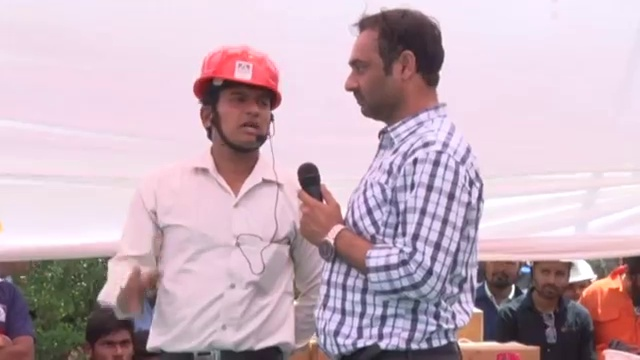helmet: (193, 39, 283, 103), (562, 261, 597, 286)
helmet_off: (346, 7, 443, 115), (78, 311, 139, 359), (533, 261, 571, 307), (483, 256, 521, 295), (620, 260, 640, 309)
helmet_on: (194, 38, 284, 156), (562, 261, 596, 307)
person: (81, 40, 329, 346), (312, 7, 489, 356), (499, 258, 597, 353), (578, 260, 640, 348), (468, 251, 526, 344), (0, 279, 37, 357)
